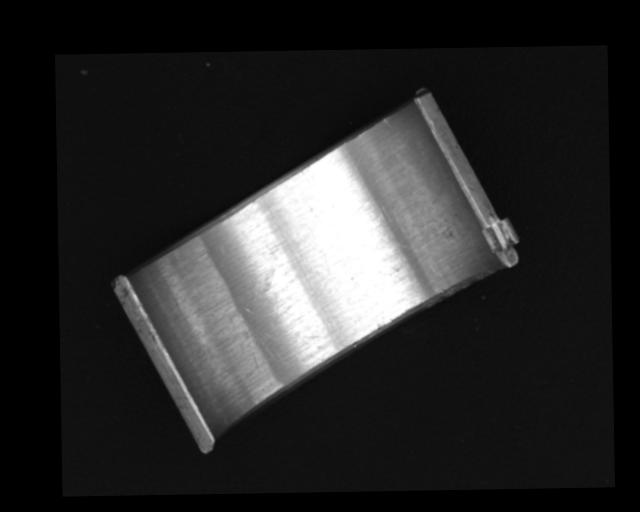nick: (384, 117, 393, 130)
